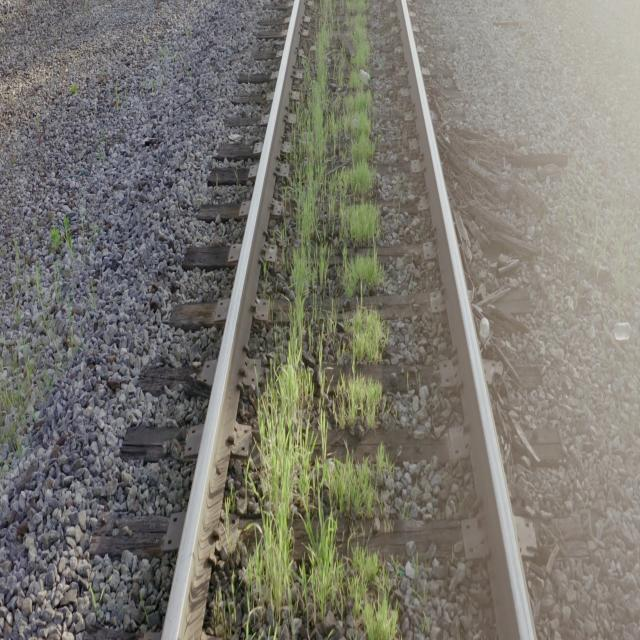Plant: (249, 0, 399, 640)
